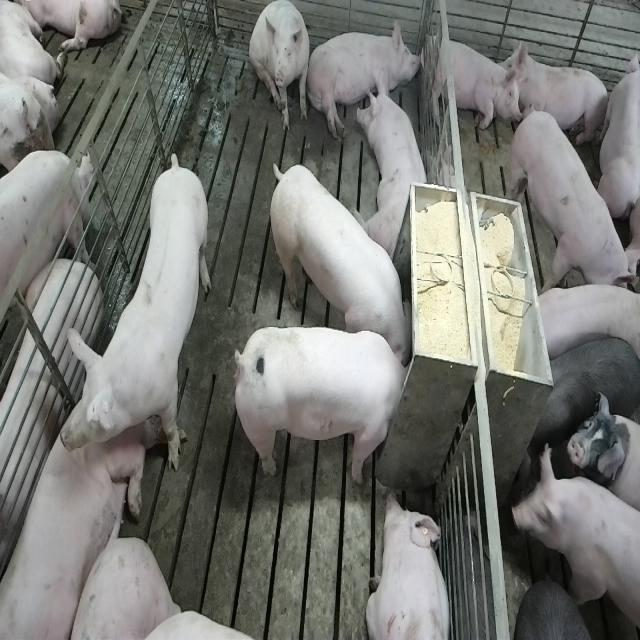Feeding: (264, 160, 412, 362), (240, 324, 418, 486)
Lateral_lying: (306, 16, 424, 141)
Sitting: (250, 2, 312, 134)
Standing: (61, 157, 212, 488), (509, 444, 638, 640), (508, 102, 634, 300), (0, 151, 94, 350), (526, 333, 638, 459), (526, 282, 640, 368), (516, 578, 604, 640)
Sternal_lying: (0, 378, 144, 640), (359, 70, 433, 259), (365, 488, 452, 640), (504, 40, 612, 153), (423, 33, 517, 134)
